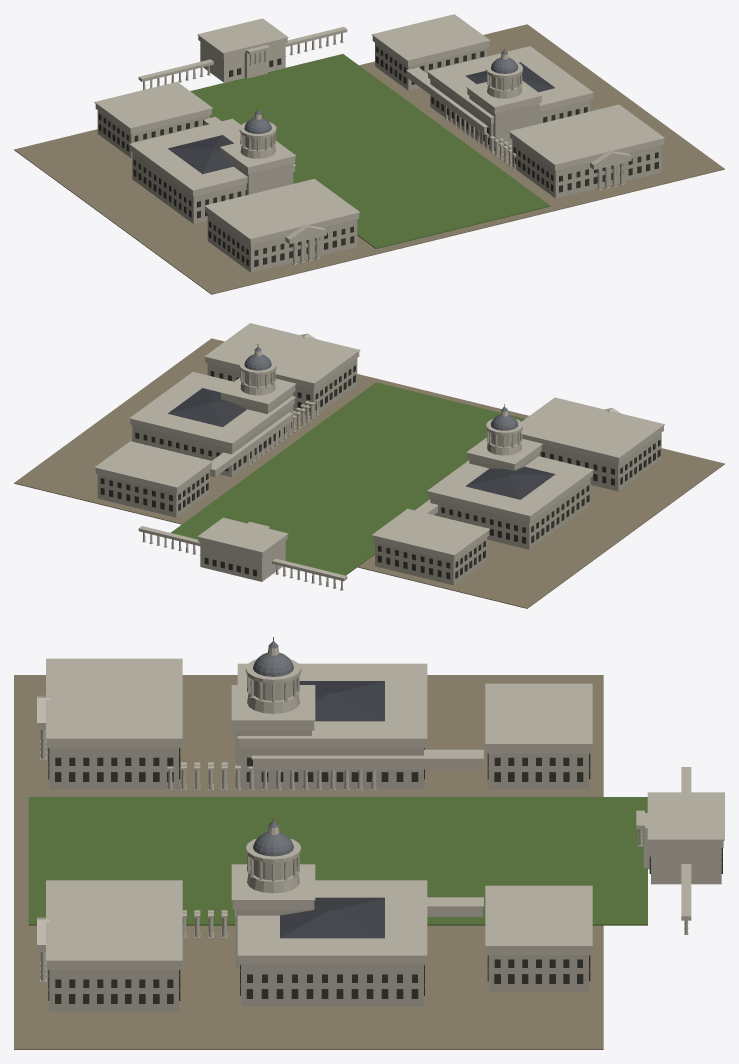
The model's file is greenwich_royal_naval_college.glb.
The picture shows the model from 3 angles, top to bottom: view 1: azimuth 30°, elevation 25°; view 2: azimuth 150°, elevation 25°; view 3: azimuth 270°, elevation 25°; orthographic projection. The views are drawn at different scales.
Parts seen in each view (by area): view 1: greenwich_royal_naval_college; view 2: greenwich_royal_naval_college; view 3: greenwich_royal_naval_college.
Boxes of the visible parts, box(x1,y1,x2,y2) form: greenwich_royal_naval_college: box(14, 14, 724, 294); greenwich_royal_naval_college: box(14, 323, 724, 608); greenwich_royal_naval_college: box(14, 637, 724, 1049).
Size of the model in its own units: 300 by 50.9 by 241.
